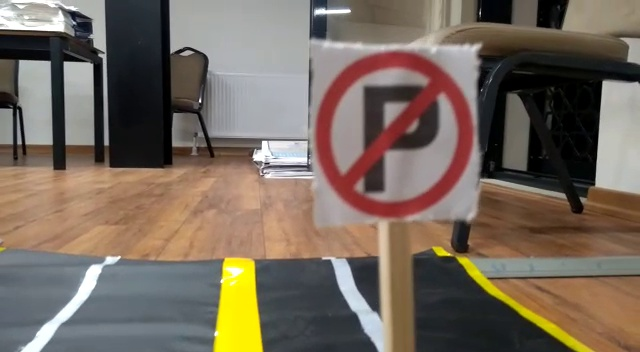park_yapilmaz: (310, 45, 475, 214)
